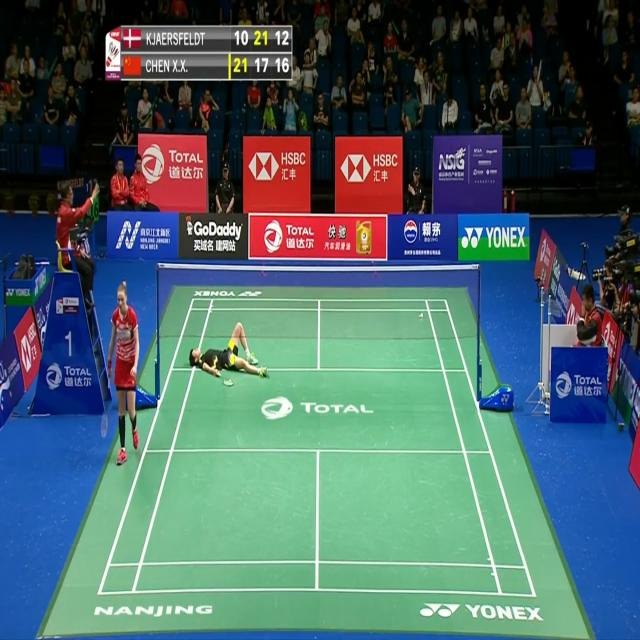Player1: (102, 273, 144, 472)
Player2: (191, 319, 272, 386)
